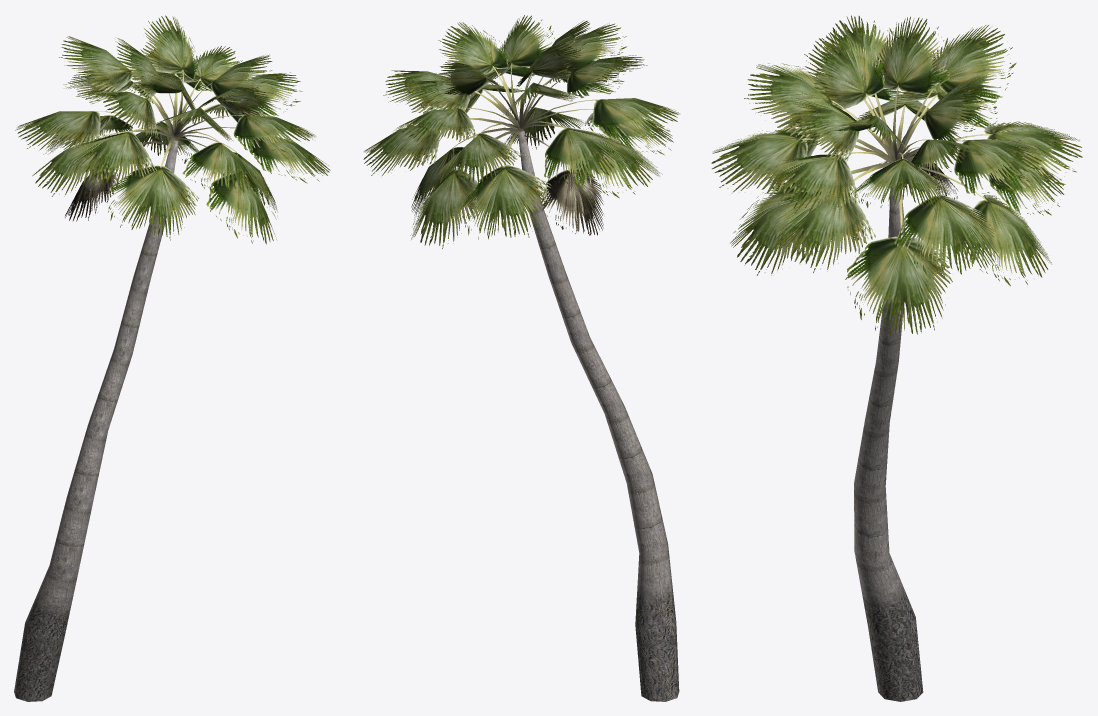
The model's file is palm_a.glb.
The picture shows the model from 3 angles, left to right: view 1: azimuth 30°, elevation 25°; view 2: azimuth 150°, elevation 25°; view 3: azimuth 270°, elevation 25°; orthographic projection. The views are drawn at different scales.
Visible parts, largest first — view 1: tree; view 2: tree; view 3: tree.
Boxes of the visible parts, bbox=[...] form: tree: bbox=[14, 15, 330, 701]; tree: bbox=[363, 15, 679, 701]; tree: bbox=[711, 15, 1082, 701].
Bounding box in the file's own units: 4.74 × 10 × 4.65.
Materials: 3 (3 with a texture image).
